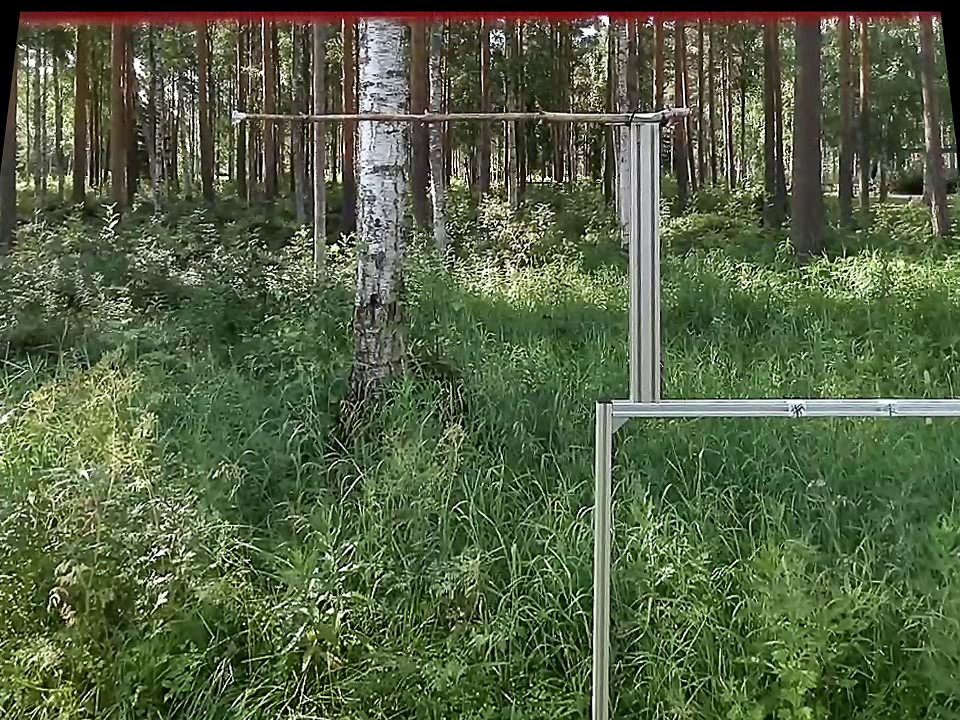aluminum_frame: (624, 123, 664, 399), (611, 391, 958, 419), (587, 390, 613, 716)
branch: (247, 103, 621, 130)
